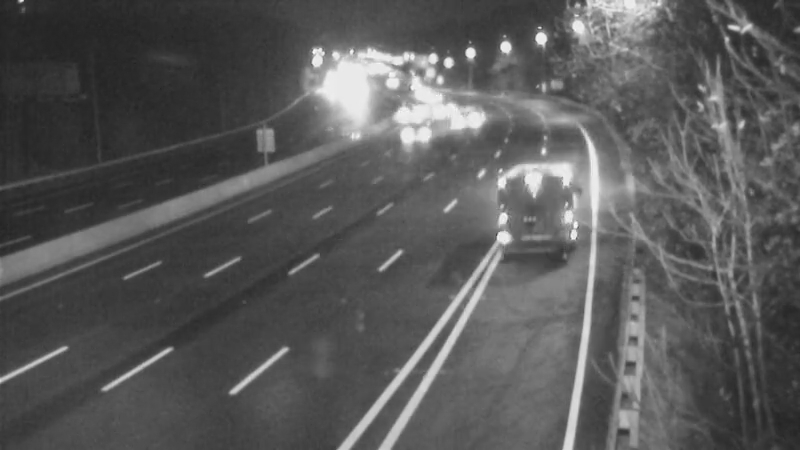vehicle: (478, 158, 558, 238), (417, 83, 467, 133), (375, 84, 425, 134), (441, 89, 491, 139), (385, 113, 435, 163)
